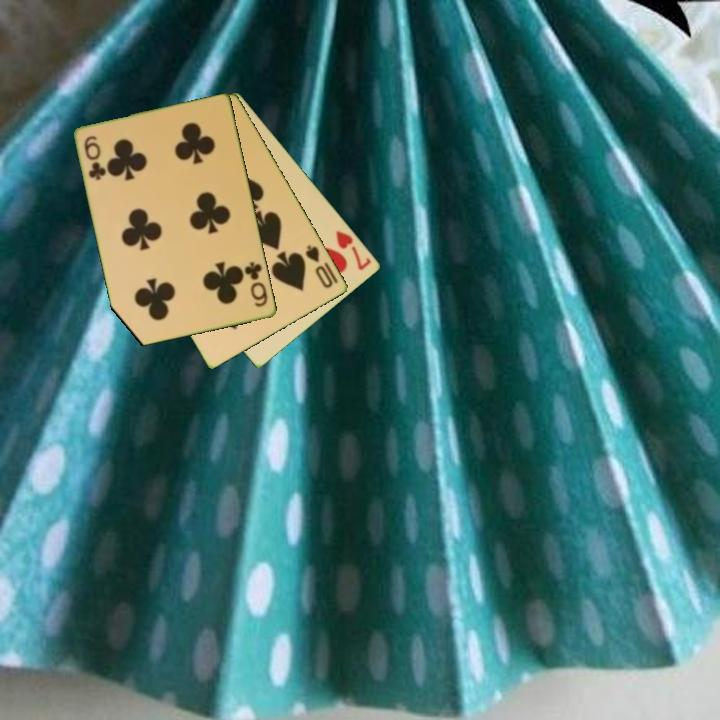10s: (302, 241, 336, 291)
6c: (241, 258, 271, 310), (81, 132, 109, 183)
7h: (332, 227, 374, 273)
